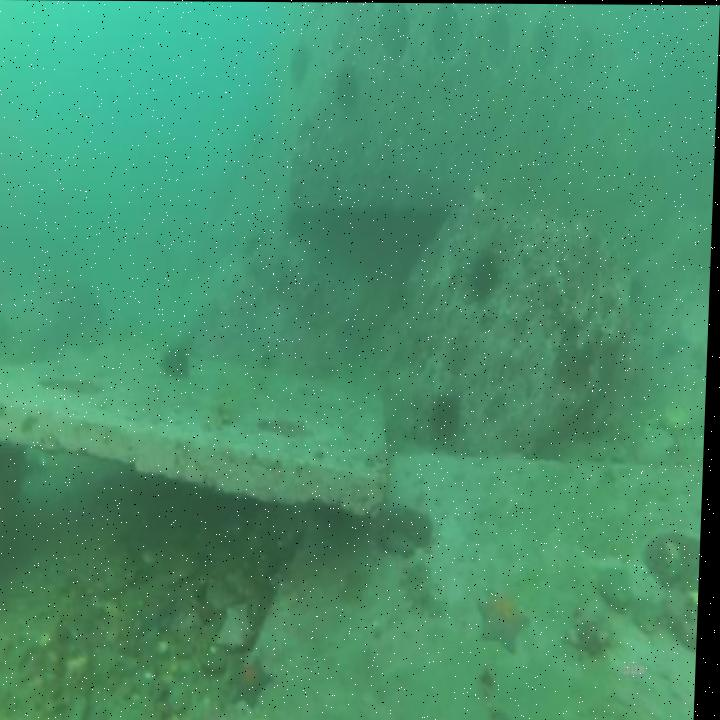echinus: (429, 383, 470, 444), (466, 243, 502, 303), (157, 337, 196, 383), (334, 61, 363, 112), (288, 41, 313, 91)
starfish: (482, 579, 536, 654), (235, 648, 279, 713), (131, 591, 181, 647)
